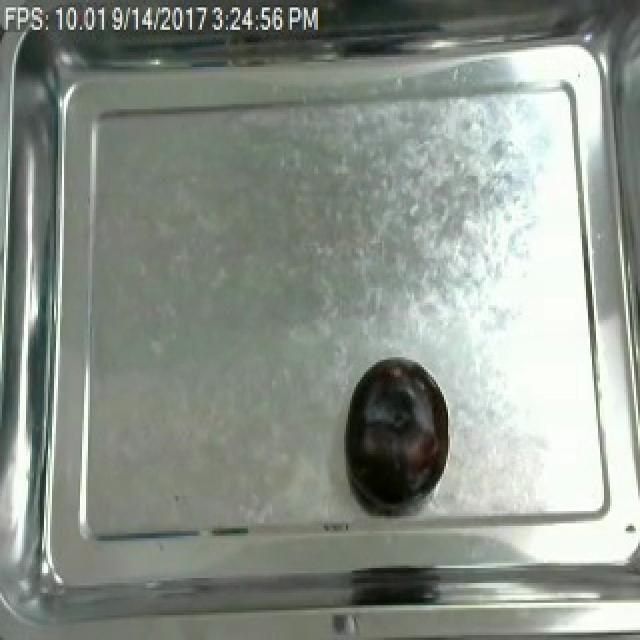Fruit: (338, 357, 448, 506)
